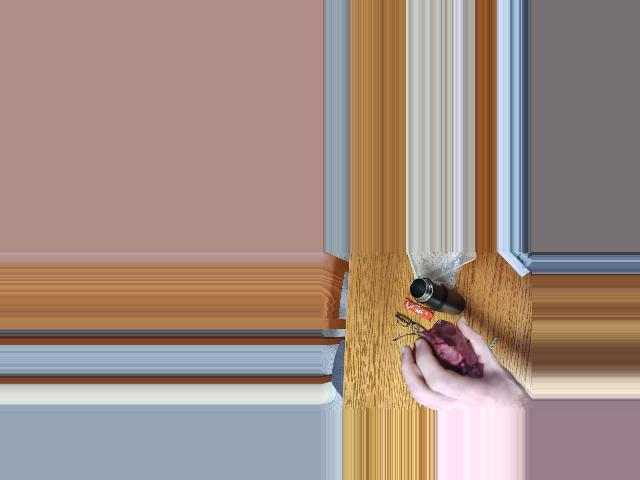onion: (418, 326, 484, 380)
